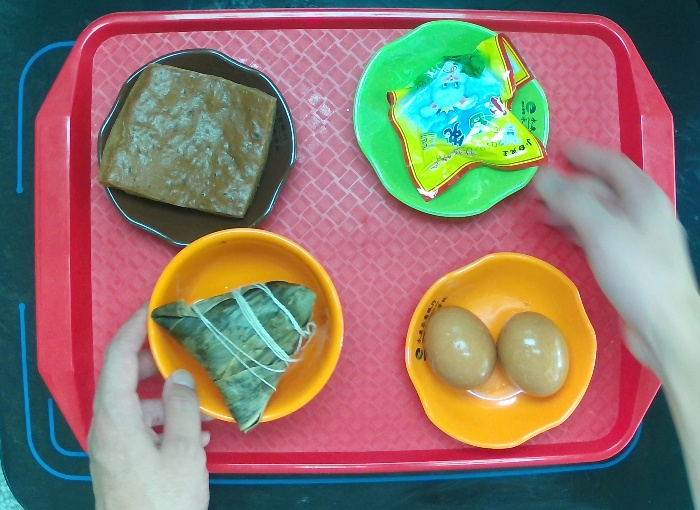YKMZ-Ju_Se_Ao_Bian_Wan: (403, 249, 598, 453)
YKMZ-Ju_Se_Yuan_Wan: (146, 224, 345, 426)
YKMZ-Ka_Fei_Ao_Bian_Wan: (96, 49, 295, 251)
YKMZ-Lv_Se_Ao_Bian_Wan: (351, 19, 551, 218)
